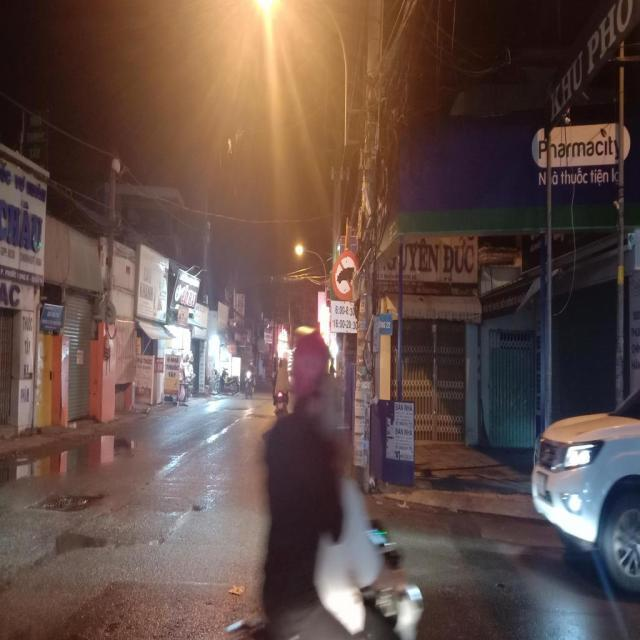106-cam-oto-tai: (330, 250, 358, 298)
